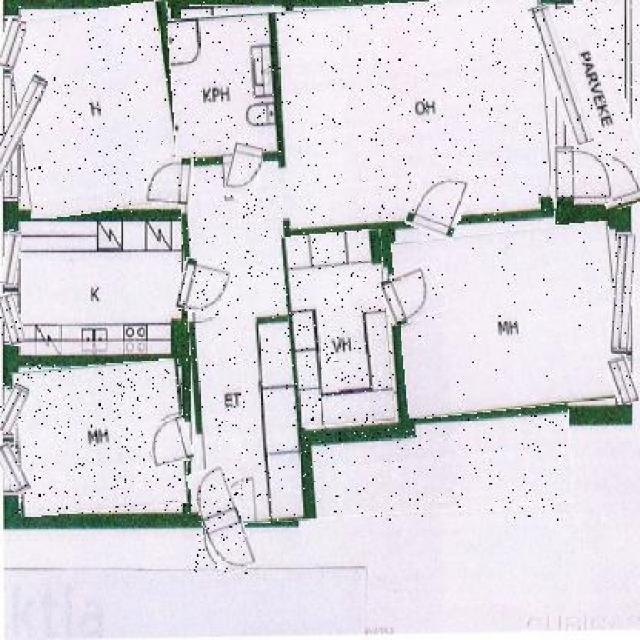door: (194, 464, 249, 574), (411, 160, 469, 237), (380, 266, 445, 323), (551, 146, 612, 202), (177, 260, 231, 314), (146, 157, 194, 203), (146, 418, 192, 464), (226, 143, 262, 200)
window: (540, 3, 583, 146), (0, 72, 34, 200), (612, 234, 634, 354), (0, 442, 25, 496), (609, 356, 637, 404), (0, 17, 23, 68), (0, 383, 23, 434), (2, 292, 23, 346), (3, 230, 20, 284)
zone: (176, 0, 566, 520), (396, 226, 622, 414), (12, 5, 188, 214), (12, 363, 188, 514), (286, 232, 392, 426), (558, 0, 638, 208), (182, 6, 283, 145)
